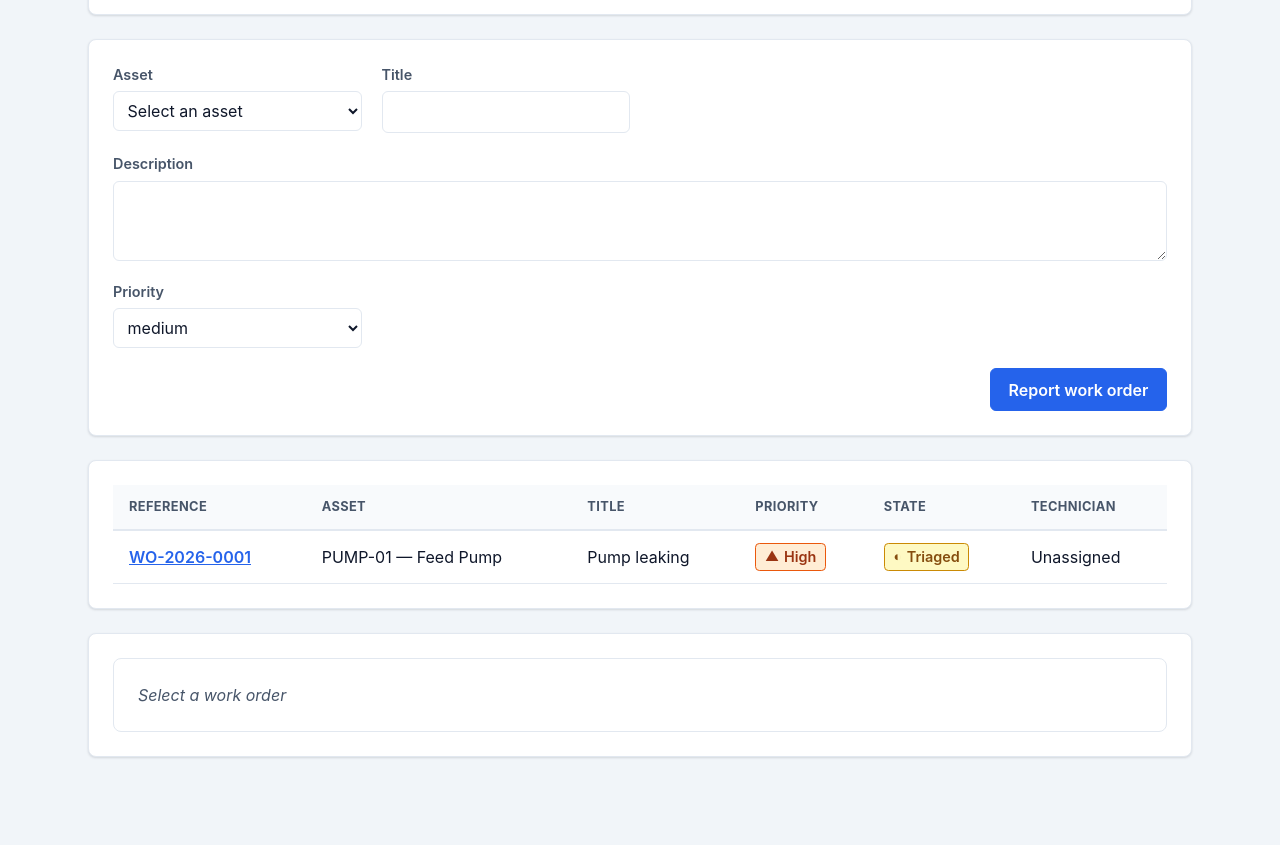
App integration › shows the backend's message when an action is rejected with 403
(page scrolled)
Click the button "WO-2026-0001". click: point(190, 557)
box: [129, 545, 251, 569]
(page scrolled)
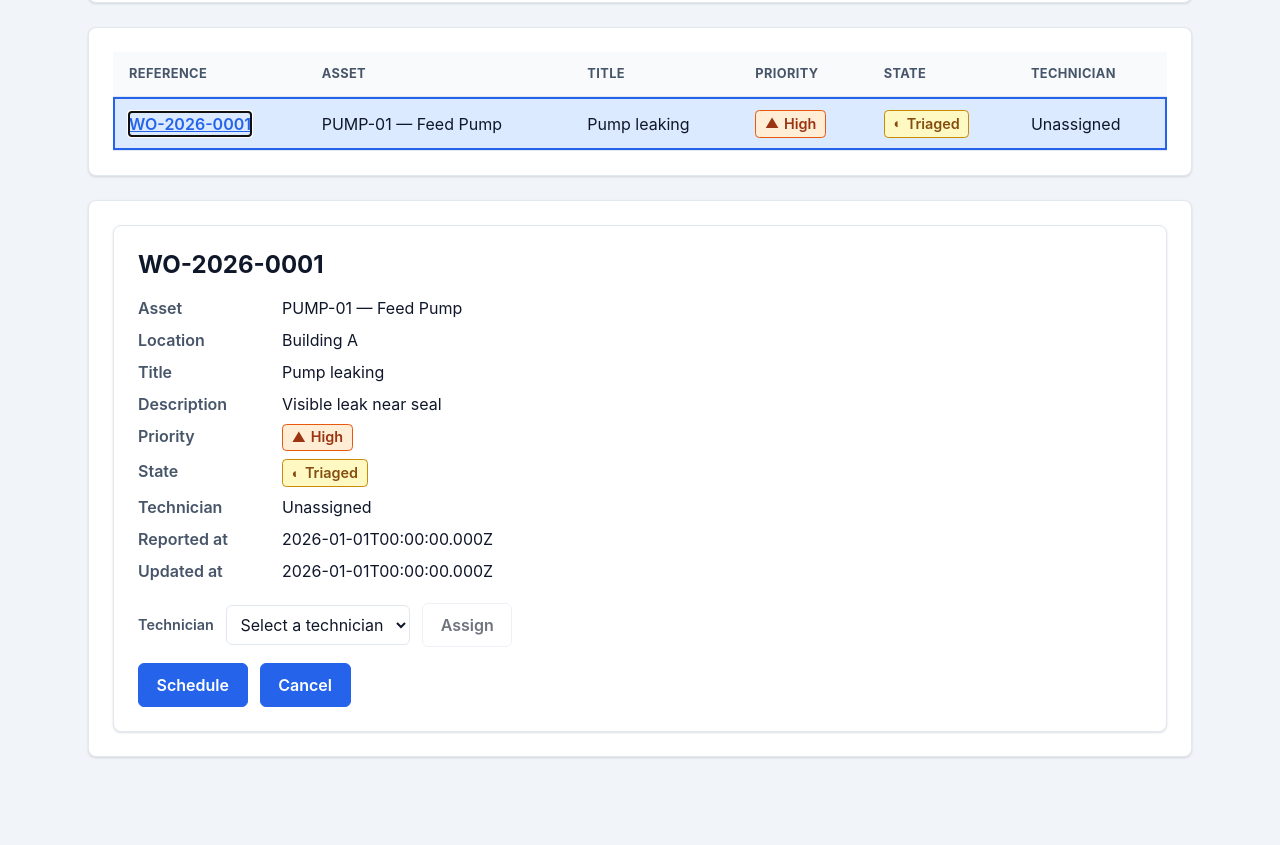
Click the button "Cancel". click: point(305, 685)
box: [260, 663, 350, 707]
(page scrolled)
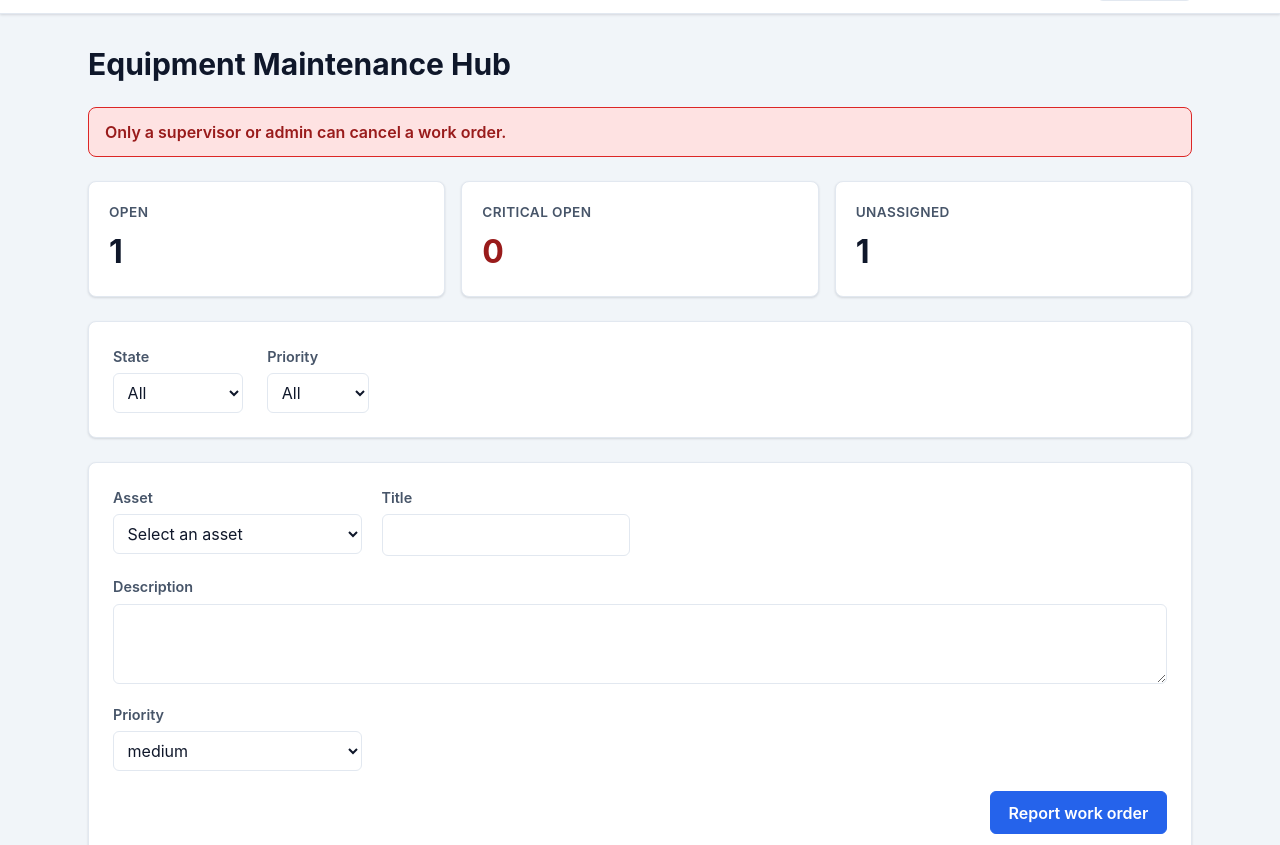
Expected: the message does not show "Failed to update work order", [88, 107, 1192, 157]
Now the message reads "Only a supervisor or admin can cancel a work order.", box [105, 122, 506, 142]
